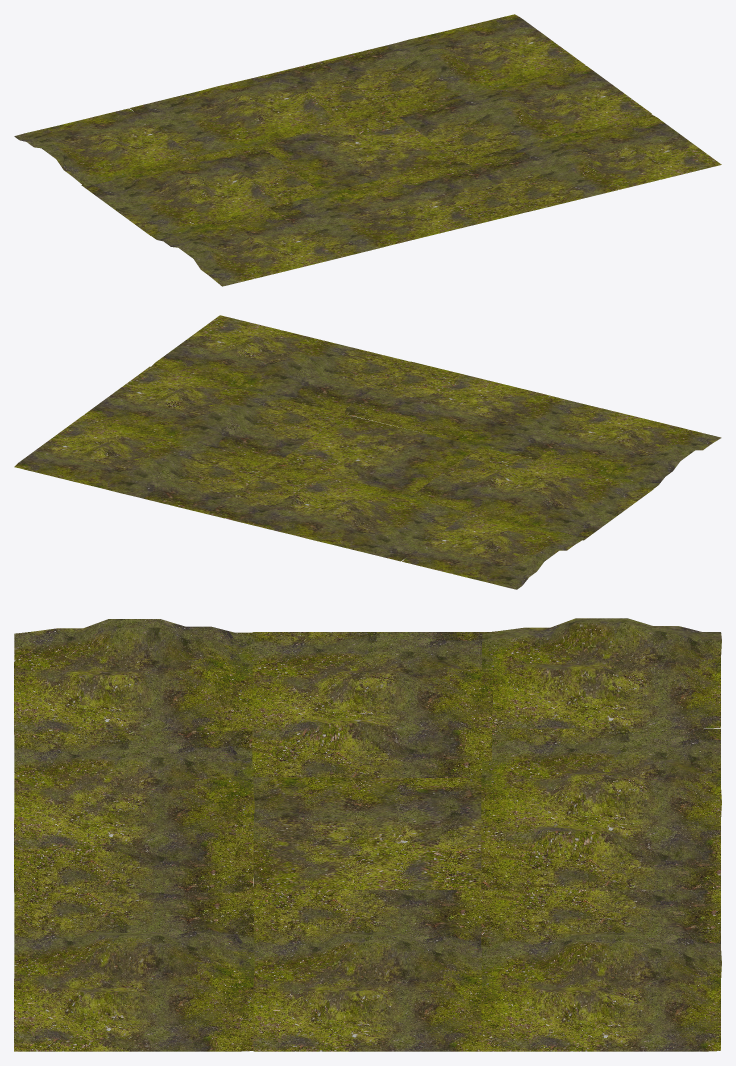
Rendered from terrain.fbx.
3 renders of one model, top to bottom at view 1: azimuth 30°, elevation 25°; view 2: azimuth 150°, elevation 25°; view 3: azimuth 270°, elevation 25°, orthographic. The views are drawn at different scales.
Visible parts, largest first — view 1: polySurface12; view 2: polySurface12; view 3: polySurface12.
Boxes of the visible parts, x1,y1,x2,y2 form: polySurface12: (14,14,721,286); polySurface12: (14,315,721,589); polySurface12: (14,618,721,1051).
Size of the model in its own units: 8866 by 173 by 6319.
Materials: 1 (1 with a texture image).
